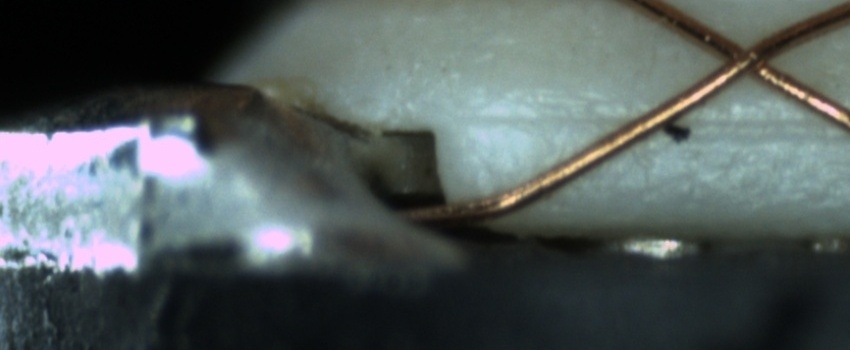CL: (698, 19, 799, 93)
DL: (460, 99, 849, 154)
